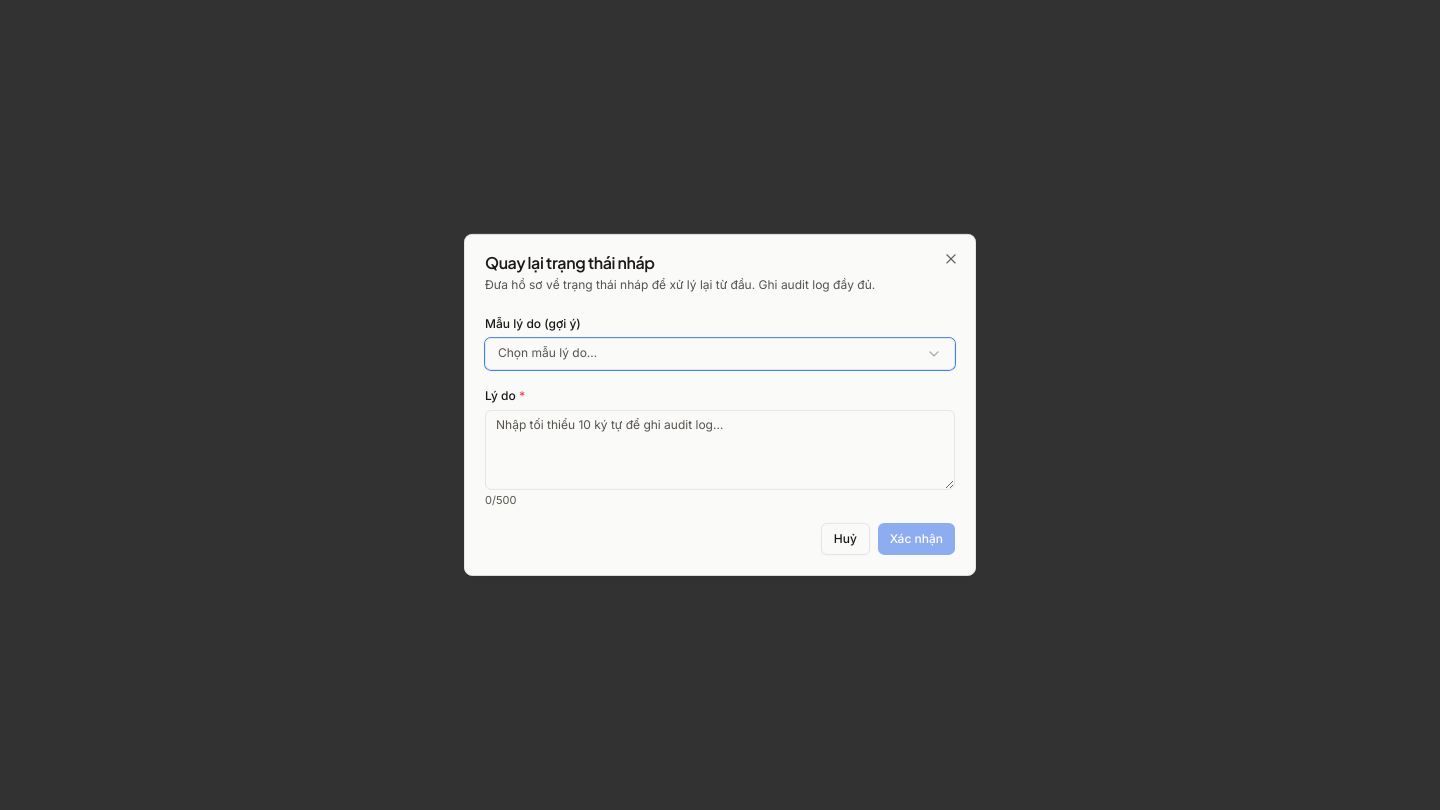
Scenario: AuditReasonDialog › confirm button disabled when reason empty or below min length
expect the button with test id "audit-reason-confirm" is disabled: met, box left=878, top=523, right=955, bottom=555
Type "short" into the text box with test id "audit-reason-textarea" at (720, 449), box left=485, top=409, right=955, bottom=489
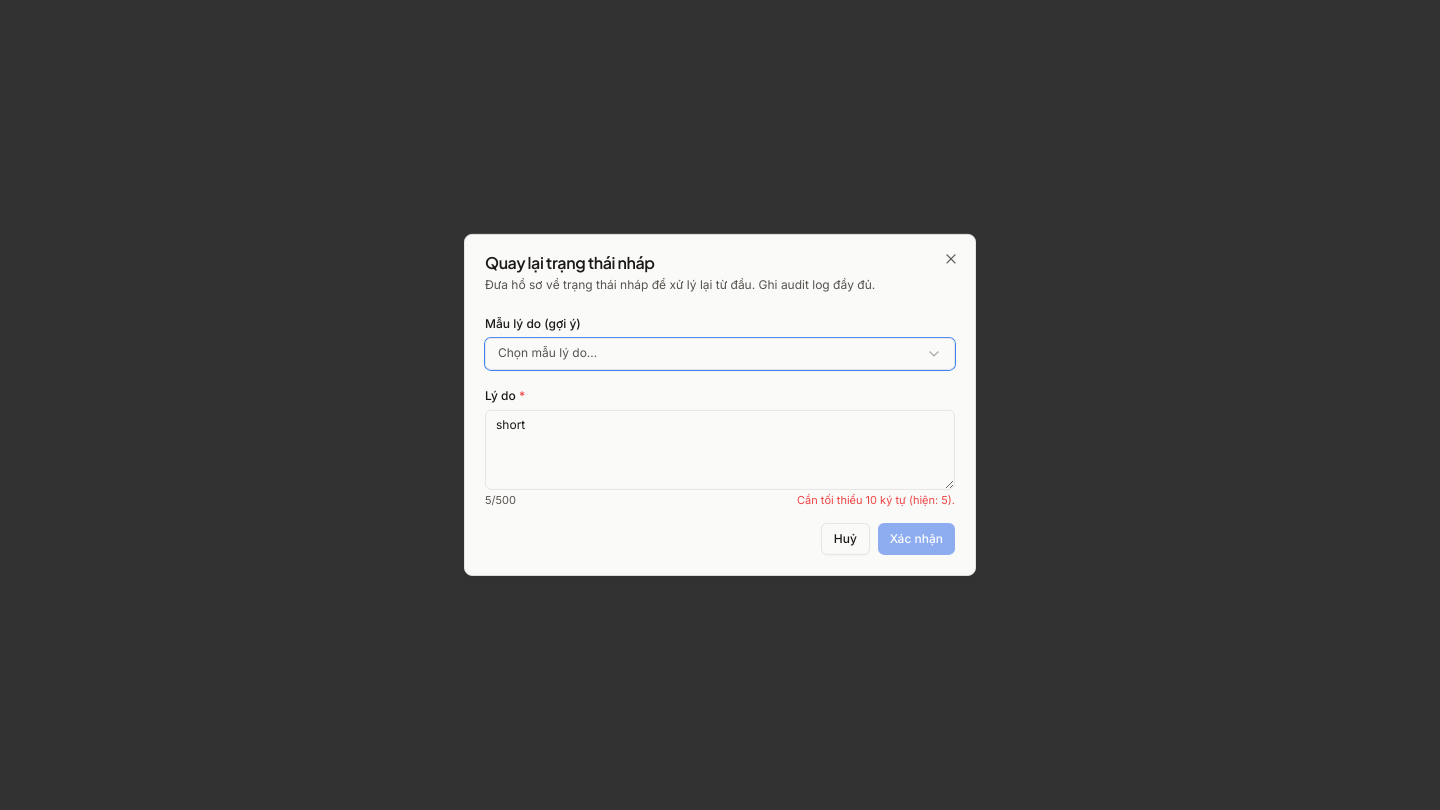
expect the button with test id "audit-reason-confirm" is disabled: met, box left=878, top=523, right=955, bottom=555
expect the message with test id "audit-reason-error" shows "tối thiểu 10": met, box left=797, top=492, right=955, bottom=506
Now enough chars
Replace the text in the text box with test id "audit-reason-textarea" with "Long enough reason here" at (720, 449), box left=485, top=409, right=955, bottom=489
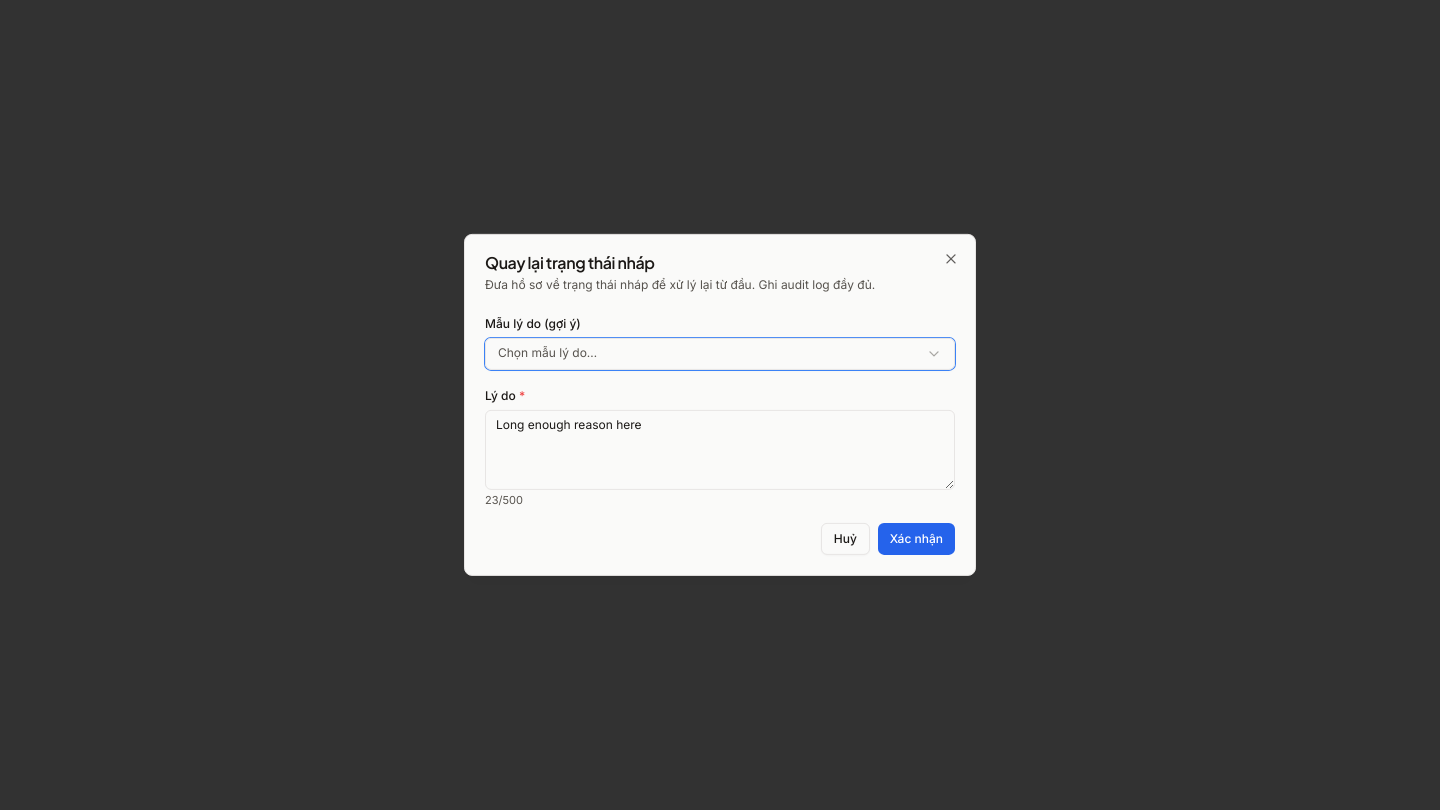
expect the button with test id "audit-reason-confirm" is enabled: met, box left=878, top=523, right=955, bottom=555
